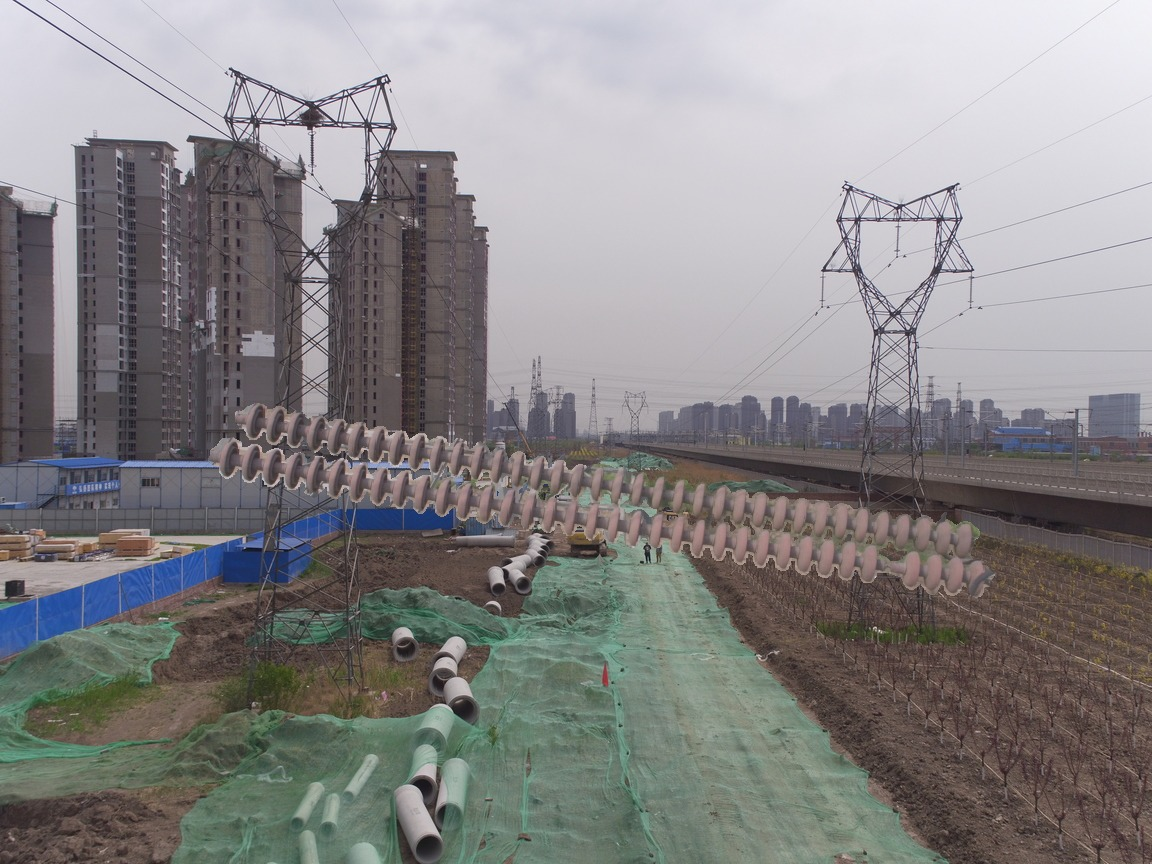defect: (853, 542, 926, 591)
